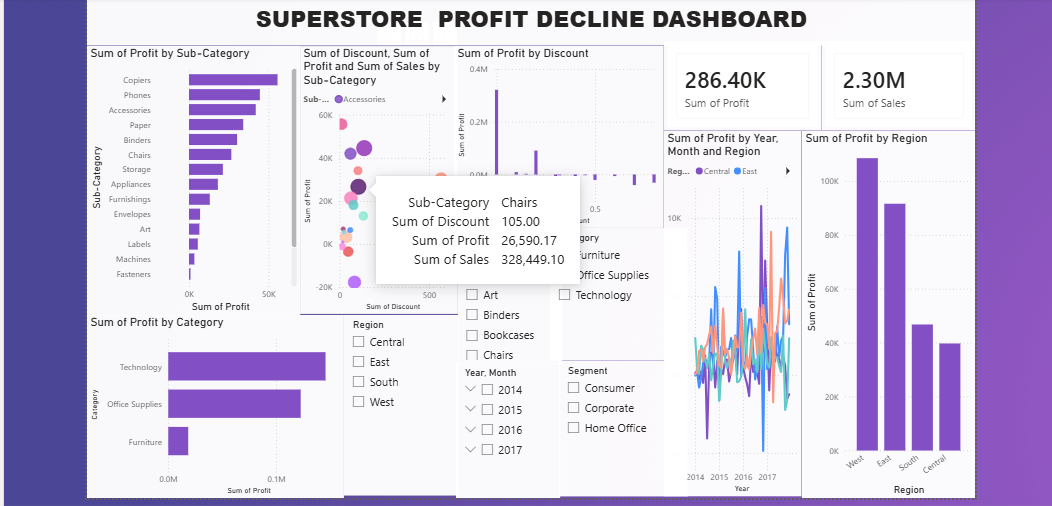

The page's visual inventory and layout, read from the dashboard file:
{"tool":"powerbi","page":{"name":"Page 1","canvas":[1280,720],"ordinal":0},"visuals":[{"type":"slicer","fields":{"Values":["Sample - Superstore (Week 8 Dat (2).Region"]},"box":[369.6,456.9,164.6,260.4],"z":0},{"type":"clusteredBarChart","fields":{"Category":["Sample - Superstore (Week 8 Dat (2).Category"],"Y":["Sum(Sample - Superstore (Week 8 Dat (2).Profit)"]},"box":[0,456.9,369.6,263.7],"z":1000},{"type":"lineChart","fields":{"Category":["Sample - Superstore (Week 8 Dat (2).Order Date.Variation.Date Hierarchy.Year","Sample - Superstore (Week 8 Dat (2).Order Date.Variation.Date Hierarchy.Month"],"Y":["Sum(Sample - Superstore (Week 8 Dat (2).Profit)"],"Series":["Sample - Superstore (Week 8 Dat (2).Region"]},"box":[831.5,191.5,198.2,525.8],"z":2000},{"type":"scatterChart","fields":{"X":["Sum(Sample - Superstore (Week 8 Dat (2).Discount)"],"Y":["Sum(Sample - Superstore (Week 8 Dat (2).Profit)"],"Size":["Sum(Sample - Superstore (Week 8 Dat (2).Sales)"],"Series":["Sample - Superstore (Week 8 Dat (2).Sub-Category"]},"box":[307.4,68.9,226.8,386.4],"z":3000},{"type":"clusteredColumnChart","fields":{"Category":["Sample - Superstore (Week 8 Dat (2).Discount"],"Y":["Sum(Sample - Superstore (Week 8 Dat (2).Profit)"]},"box":[529.1,68.9,302.4,262],"z":4000},{"type":"clusteredColumnChart","fields":{"Category":["Sample - Superstore (Week 8 Dat (2).Region"],"Y":["Sum(Sample - Superstore (Week 8 Dat (2).Profit)"]},"box":[1029.7,191.5,250.3,529.1],"z":5000},{"type":"cardVisual","fields":{"Data":["Sum(Sample - Superstore (Week 8 Dat (2).Sales)"]},"box":[1058.3,62.2,221.7,129.3],"z":6000},{"type":"cardVisual","fields":{"Data":["Sum(Sample - Superstore (Week 8 Dat (2).Profit)"]},"box":[831.5,62.2,226.8,129.3],"z":9000},{"type":"textbox","box":[0,1.7,1280,67.2],"z":10000},{"type":"slicer","fields":{"Values":["Sample - Superstore (Week 8 Dat (2).Sub-Category"]},"box":[534.2,330.9,149.5,194.9],"z":11000},{"type":"slicer","fields":{"Values":["Sample - Superstore (Week 8 Dat (2).Segment"]},"box":[680.3,522.4,184.8,194.9],"z":12000},{"type":"slicer","fields":{"Values":["Sample - Superstore (Week 8 Dat (2).Order Date.Variation.Date Hierarchy.Year","Sample - Superstore (Week 8 Dat (2).Order Date.Variation.Date Hierarchy.Month"]},"box":[530.8,525.8,149.5,194.9],"z":13000},{"type":"clusteredBarChart","fields":{"Category":["Sample - Superstore (Week 8 Dat (2).Sub-Category"],"Y":["Sum(Sample - Superstore (Week 8 Dat (2).Profit)"]},"box":[0,68.9,307.4,388],"z":14000},{"type":"slicer","fields":{"Values":["Sample - Superstore (Week 8 Dat (2).Category"]},"box":[666.9,330.9,198.2,191.5],"z":15000}]}

Visuals, with their boxes on the page's 1280x720 design canvas (x1, y1, x2, y2). These are canvas units, not pixel positions in the 1052x506 screenshot, which may show the page scaled, cropped or inside an application window:
slicer - Sample - Superstore (Week 8 Dat (2).Region: [x1=370, y1=457, x2=534, y2=717]
clusteredBarChart - Sample - Superstore (Week 8 Dat (2).Category x Sum(Sample - Superstore (Week 8 Dat (2).Profit): [x1=0, y1=457, x2=370, y2=721]
lineChart - Sample - Superstore (Week 8 Dat (2).Order Date.Variation.Date Hierarchy.Year x Sample - Superstore (Week 8 Dat (2).Order Date.Variation.Date Hierarchy.Month: [x1=832, y1=192, x2=1030, y2=717]
scatterChart - Sum(Sample - Superstore (Week 8 Dat (2).Discount) x Sum(Sample - Superstore (Week 8 Dat (2).Profit): [x1=307, y1=69, x2=534, y2=455]
clusteredColumnChart - Sample - Superstore (Week 8 Dat (2).Discount x Sum(Sample - Superstore (Week 8 Dat (2).Profit): [x1=529, y1=69, x2=832, y2=331]
clusteredColumnChart - Sample - Superstore (Week 8 Dat (2).Region x Sum(Sample - Superstore (Week 8 Dat (2).Profit): [x1=1030, y1=192, x2=1280, y2=721]
cardVisual - Sum(Sample - Superstore (Week 8 Dat (2).Sales): [x1=1058, y1=62, x2=1280, y2=192]
cardVisual - Sum(Sample - Superstore (Week 8 Dat (2).Profit): [x1=832, y1=62, x2=1058, y2=192]
textbox: [x1=0, y1=2, x2=1280, y2=69]
slicer - Sample - Superstore (Week 8 Dat (2).Sub-Category: [x1=534, y1=331, x2=684, y2=526]
slicer - Sample - Superstore (Week 8 Dat (2).Segment: [x1=680, y1=522, x2=865, y2=717]
slicer - Sample - Superstore (Week 8 Dat (2).Order Date.Variation.Date Hierarchy.Year x Sample - Superstore (Week 8 Dat (2).Order Date.Variation.Date Hierarchy.Month: [x1=531, y1=526, x2=680, y2=721]
clusteredBarChart - Sample - Superstore (Week 8 Dat (2).Sub-Category x Sum(Sample - Superstore (Week 8 Dat (2).Profit): [x1=0, y1=69, x2=307, y2=457]
slicer - Sample - Superstore (Week 8 Dat (2).Category: [x1=667, y1=331, x2=865, y2=522]
